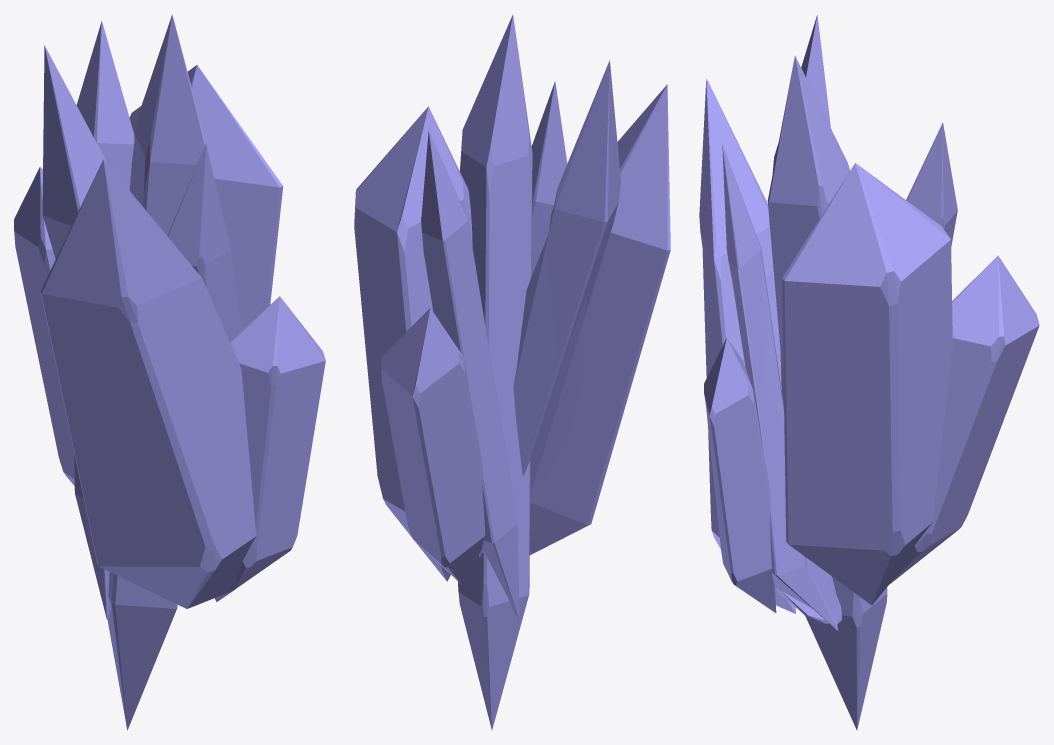
File: GripCrystal 3.fbx
The picture shows the model from 3 angles, left to right: view 1: azimuth 30°, elevation 25°; view 2: azimuth 150°, elevation 25°; view 3: azimuth 270°, elevation 25°; orthographic projection. The views are drawn at different scales.
Visible parts, largest first — view 1: GripCrystal 3; view 2: GripCrystal 3; view 3: GripCrystal 3.
Part boxes in pixels (x1=…): GripCrystal 3: x1=14, y1=14, x2=325, y2=730; GripCrystal 3: x1=354, y1=15, x2=670, y2=729; GripCrystal 3: x1=699, y1=15, x2=1039, y2=730.
Size of the model in its own units: 5.3 by 4.44 by 11.69.
